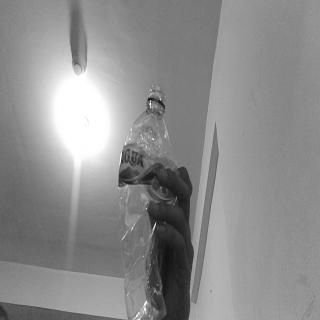plastic_bottles: (117, 80, 180, 320)
